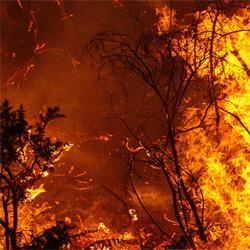fire: (224, 90, 250, 239), (188, 19, 246, 78)
